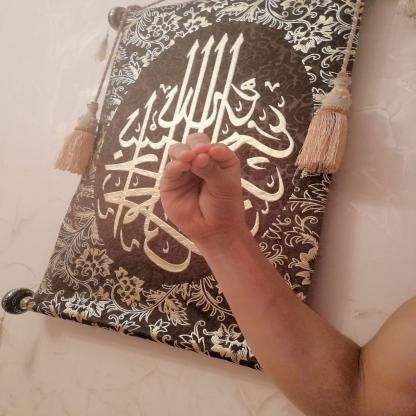HA: (143, 124, 264, 249)
